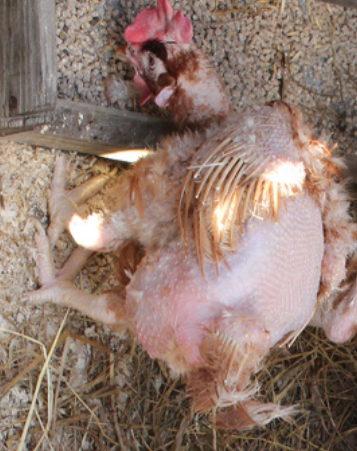Unhealthy: (39, 9, 327, 416)
